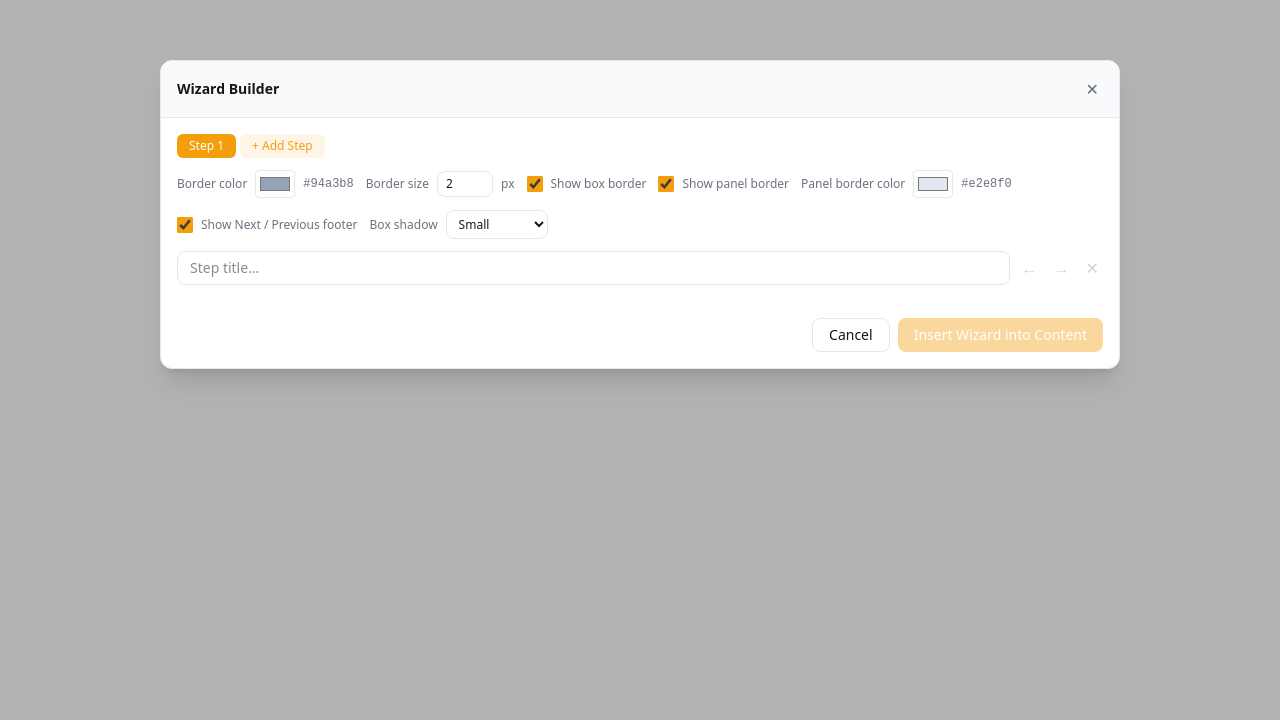
Test: TC-19.2.5 title input updates step tab label
The image size is (1280, 720).
Type "My Step" into the field labelled "Step title". click: (593,268)
box: [177, 251, 1010, 285]
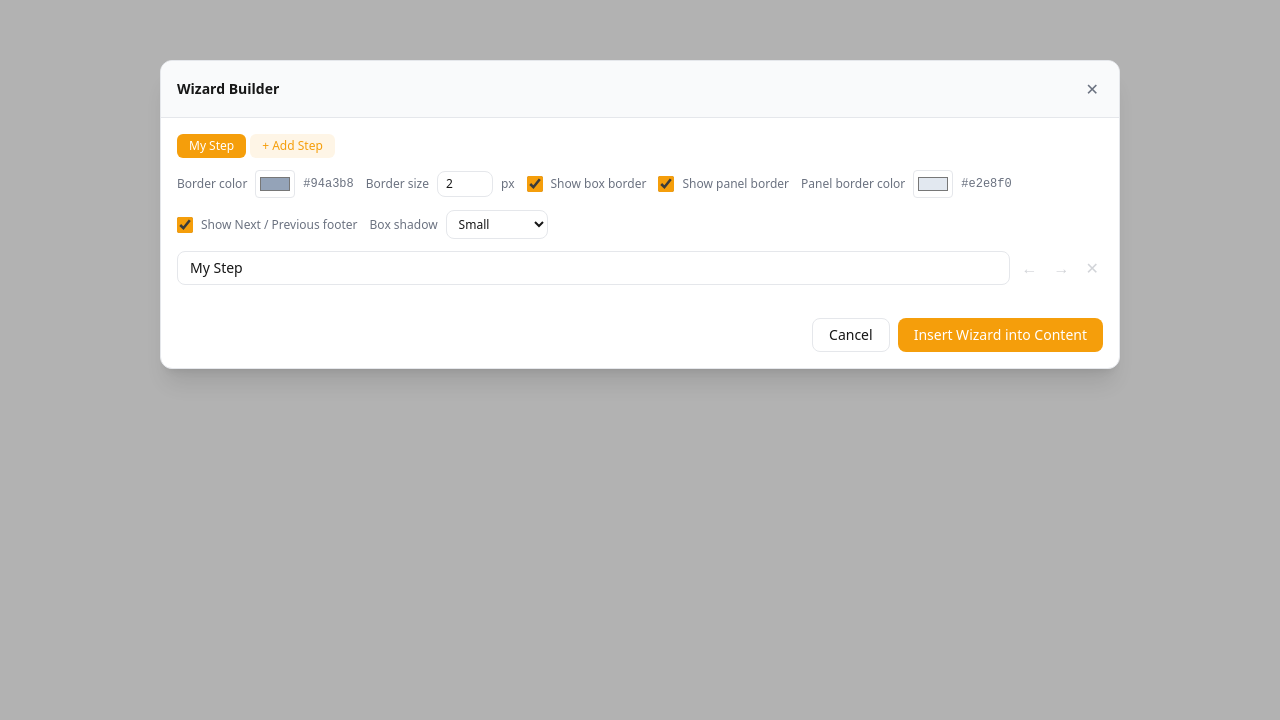
Now the tab "My Step" is shown, box [177, 134, 246, 158]
